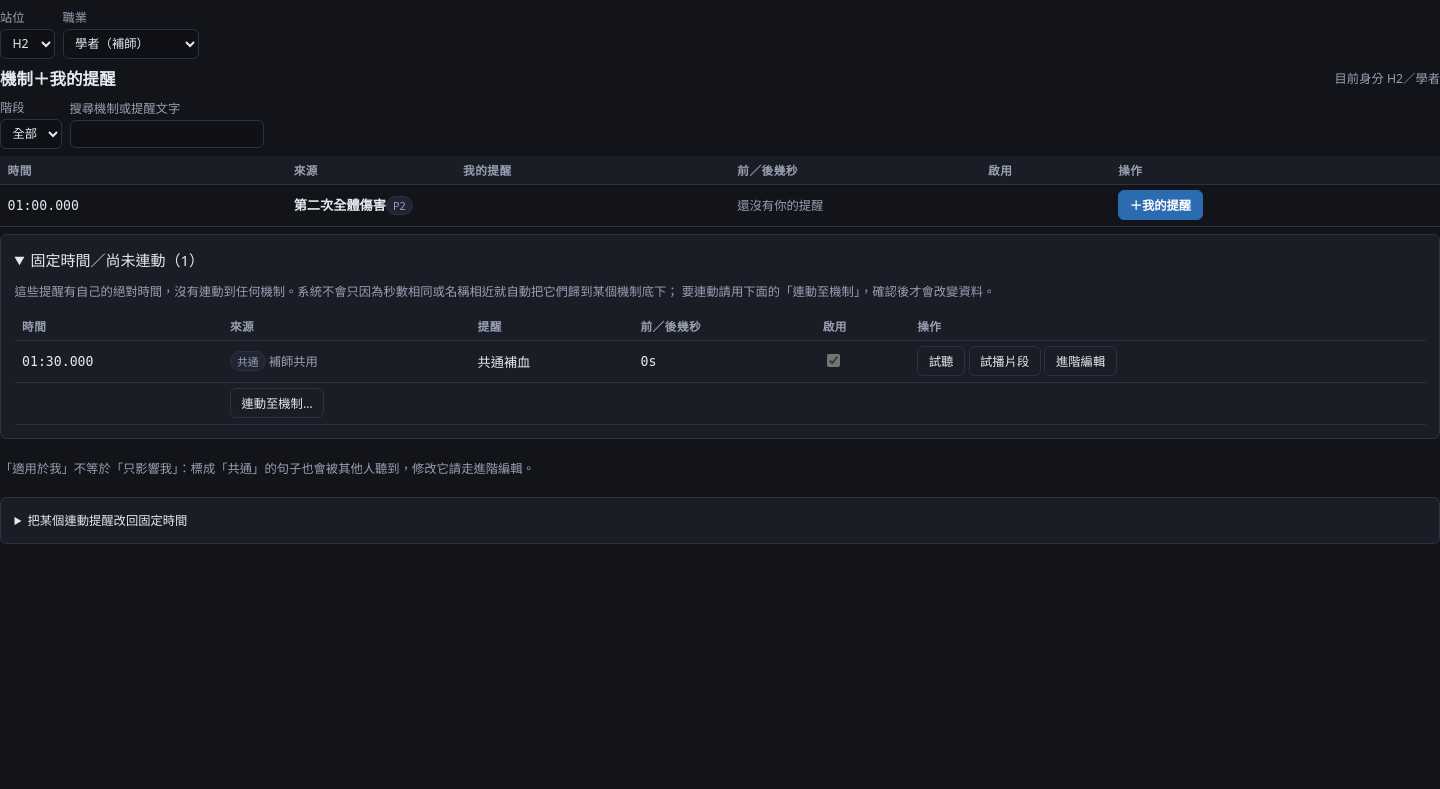
Test case: C. 從機制列表快速追加 › 預設畫面只問內容與前後幾秒，並即時顯示實際觸發時間
Click the button "＋我的提醒".
click(1160, 205)  # box [1118, 190, 1203, 220]
(page scrolled)
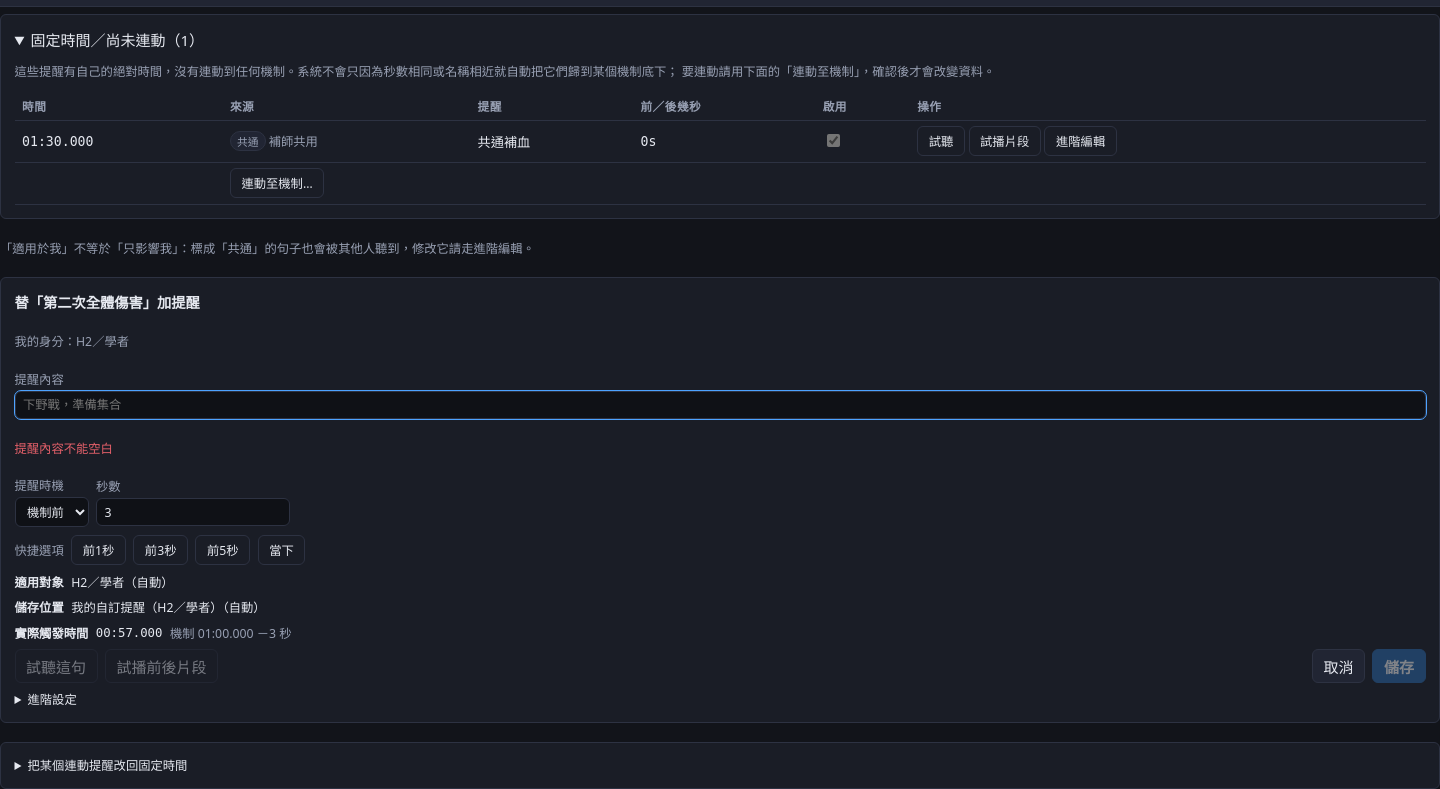
Now the heading "替「第二次全體傷害」加提醒" is shown, box [14, 293, 200, 312]
Now the text "我的身分：H2／學者" is shown, box [14, 333, 129, 350]
Now the text with test id "quick-reminder-trigger" reads "00:57.000", box [96, 626, 162, 640]
